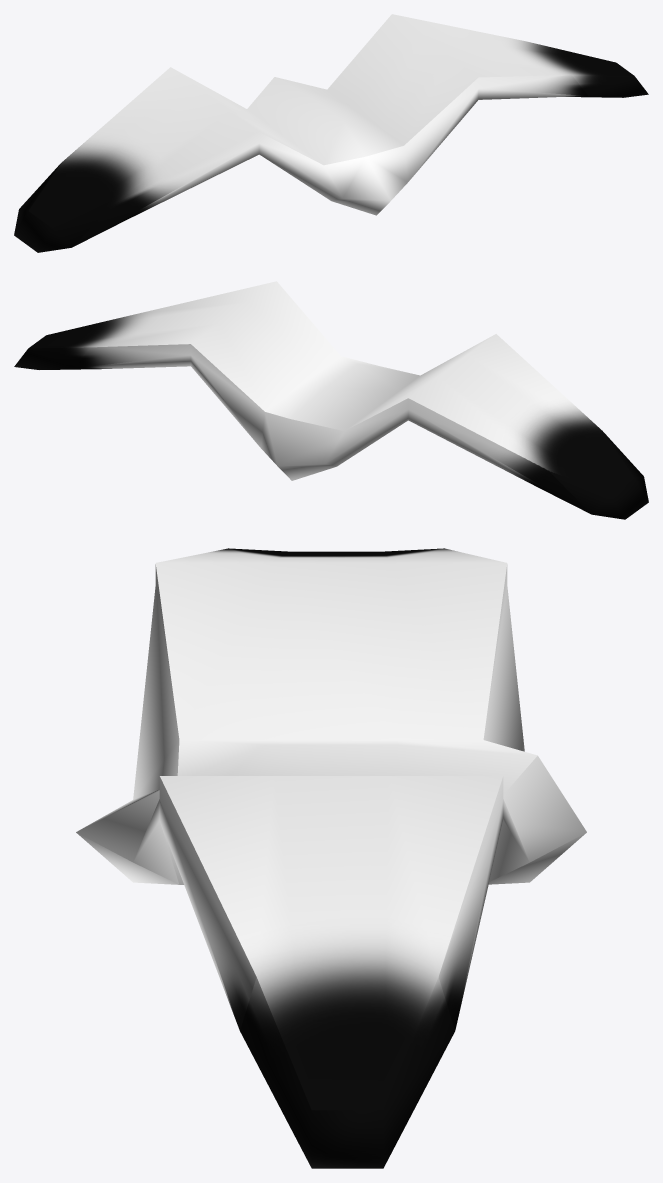
Rendered from bird_single.gltf.
3 renders of one model, top to bottom at view 1: azimuth 30°, elevation 25°; view 2: azimuth 150°, elevation 25°; view 3: azimuth 270°, elevation 25°, orthographic. The views are drawn at different scales.
Visible parts, largest first — view 1: pCube1; view 2: pCube1; view 3: pCube1.
Boxes of the visible parts, x1,y1,x2,y2 form: pCube1: (14,14,648,252); pCube1: (14,281,648,519); pCube1: (76,548,586,1168).
Size of the model in its own units: 0.1439 by 0.0238 by 0.0521.
Materials: 1 (1 with a texture image).
